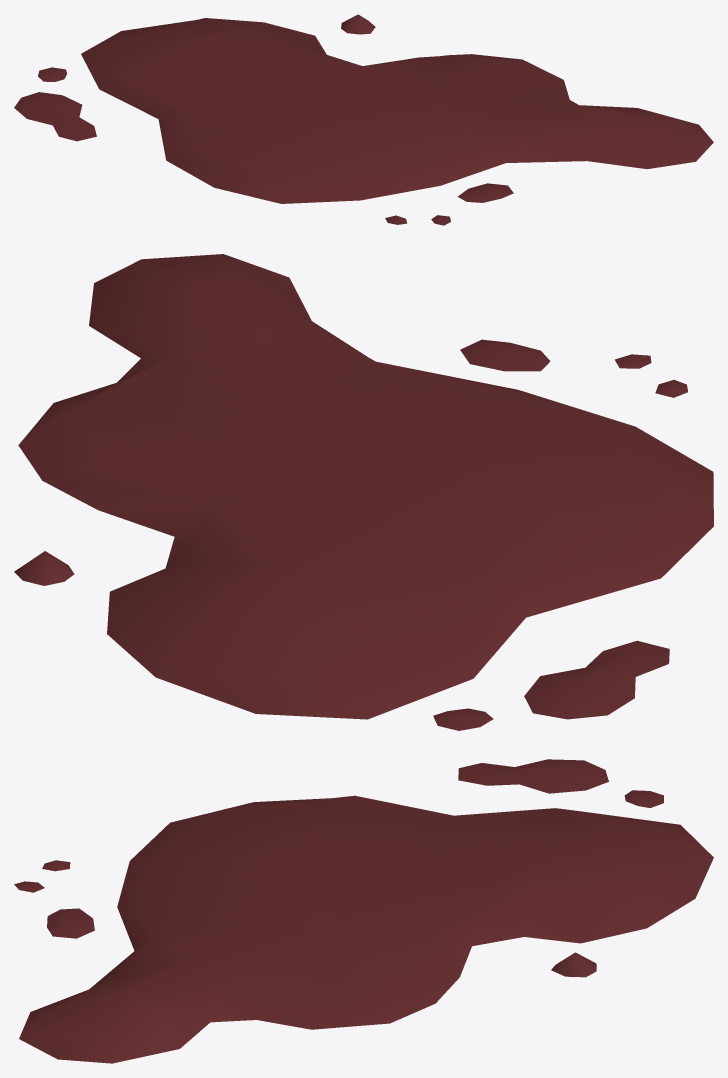
File: Blood 04.fbx
3 renders of one model, top to bottom at view 1: azimuth 30°, elevation 25°; view 2: azimuth 150°, elevation 25°; view 3: azimuth 270°, elevation 25°, orthographic. The views are drawn at different scales.
Visible parts, largest first — view 1: Blood_04; view 2: Blood_04; view 3: Blood_04.
Boxes of the visible parts, left/top/right/bottom form: Blood_04: left=14, top=14, right=713, bottom=225; Blood_04: left=14, top=254, right=713, bottom=730; Blood_04: left=14, top=759, right=713, bottom=1063.
Bounding box in the file's own units: 47.59 × 2.53 × 46.27.
